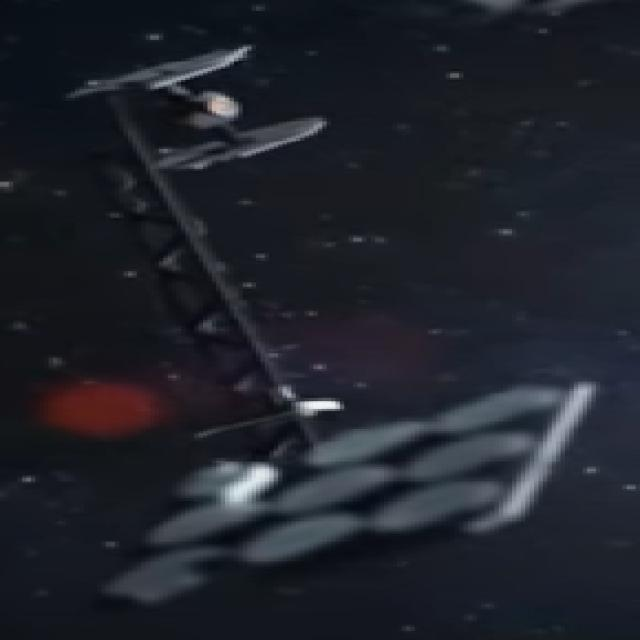large_debris: (2, 25, 626, 623)
